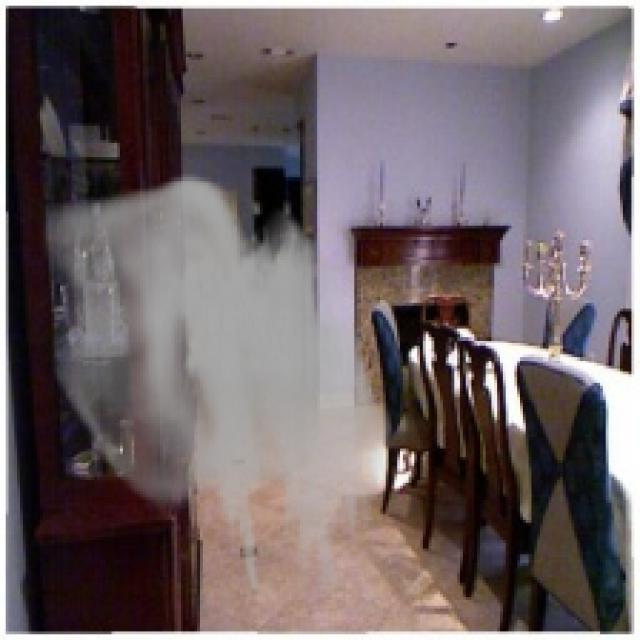Smoke: (42, 175, 398, 594)
